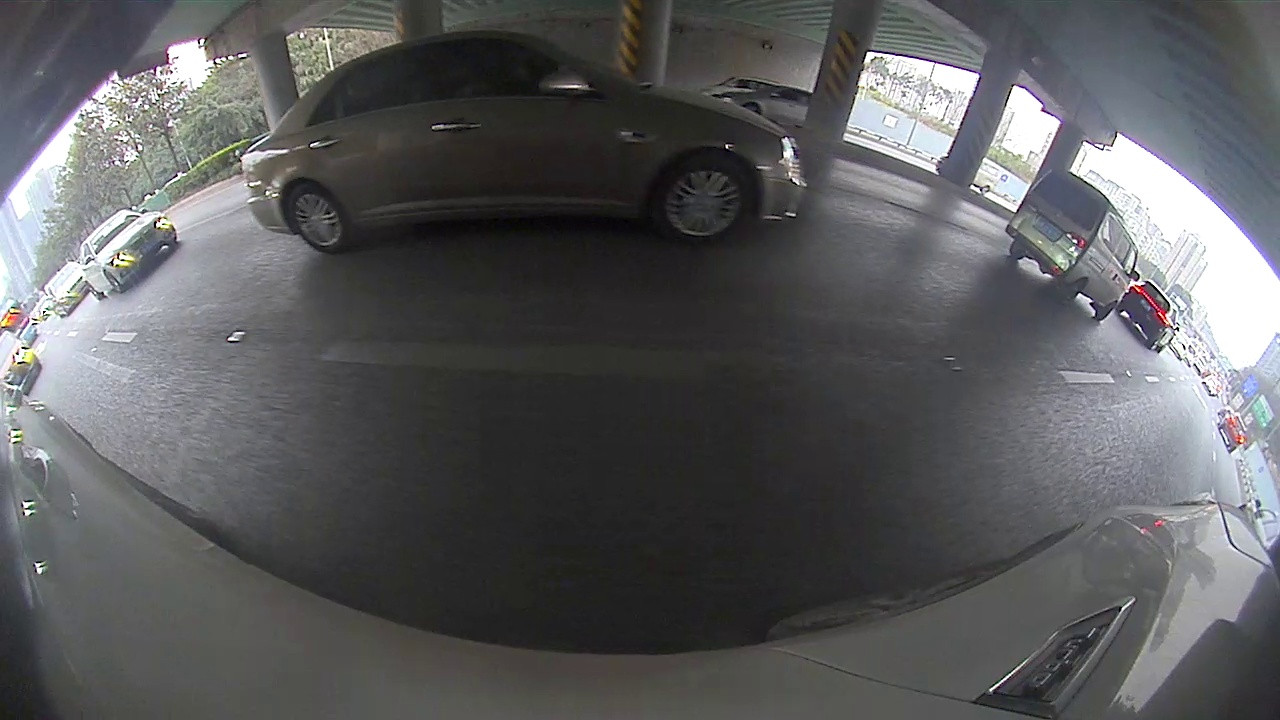car: (239, 27, 809, 257), (1005, 167, 1137, 323), (76, 208, 180, 300), (1118, 277, 1182, 351), (722, 85, 811, 130), (43, 261, 93, 318), (1, 332, 40, 395)
front: (654, 154, 750, 249)
rear: (283, 185, 354, 255)
